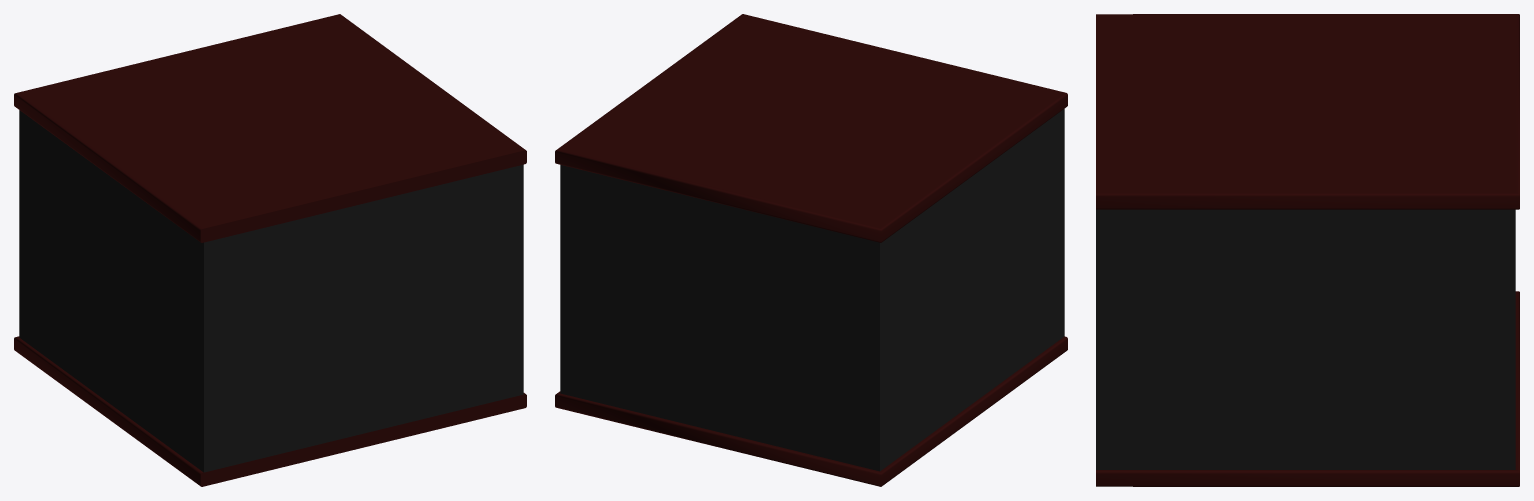
File: Counters_EndPiece.FBX
3 views of the same model, side by side, from view 1: azimuth 30°, elevation 25°; view 2: azimuth 150°, elevation 25°; view 3: azimuth 270°, elevation 25° (orthographic). The views are drawn at different scales.
Visible parts, largest first — view 1: EndPiece; view 2: EndPiece; view 3: EndPiece.
Part boxes in pixels (x1=…): EndPiece: x1=14, y1=14, x2=526, y2=486; EndPiece: x1=555, y1=14, x2=1067, y2=486; EndPiece: x1=1096, y1=14, x2=1519, y2=486.
Size of the model in its own units: 49 by 37 by 48.5.
